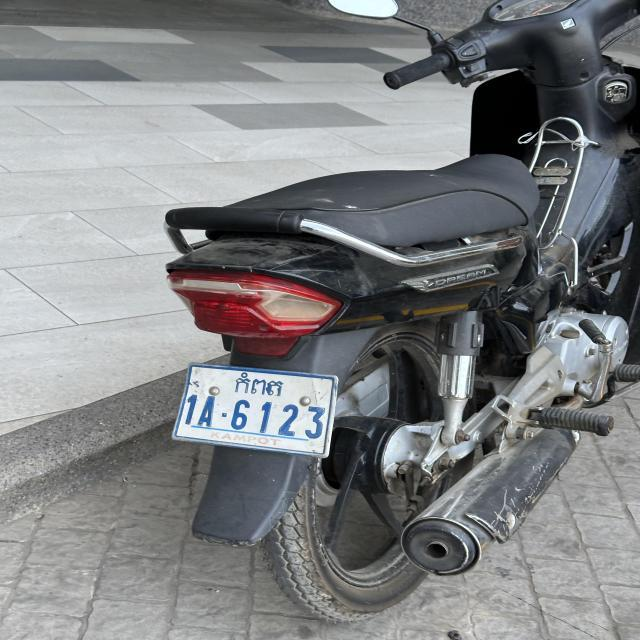Kampot: (232, 372, 286, 398)
